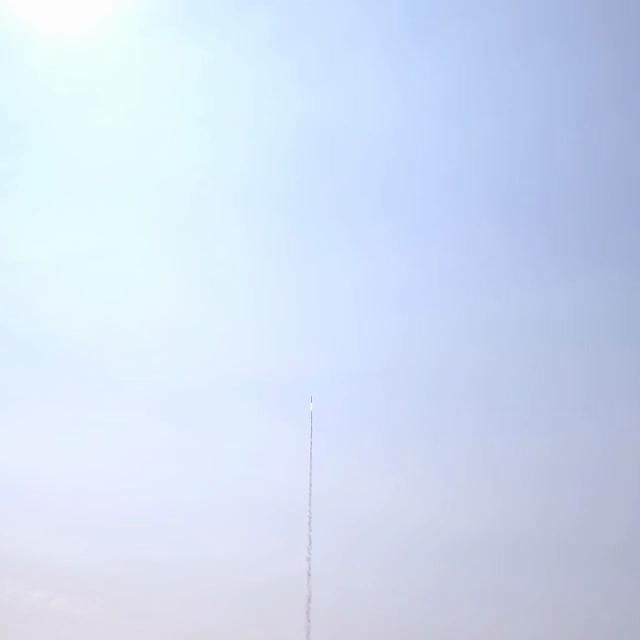smoke_trail_with_rocket: (303, 397, 312, 640)
